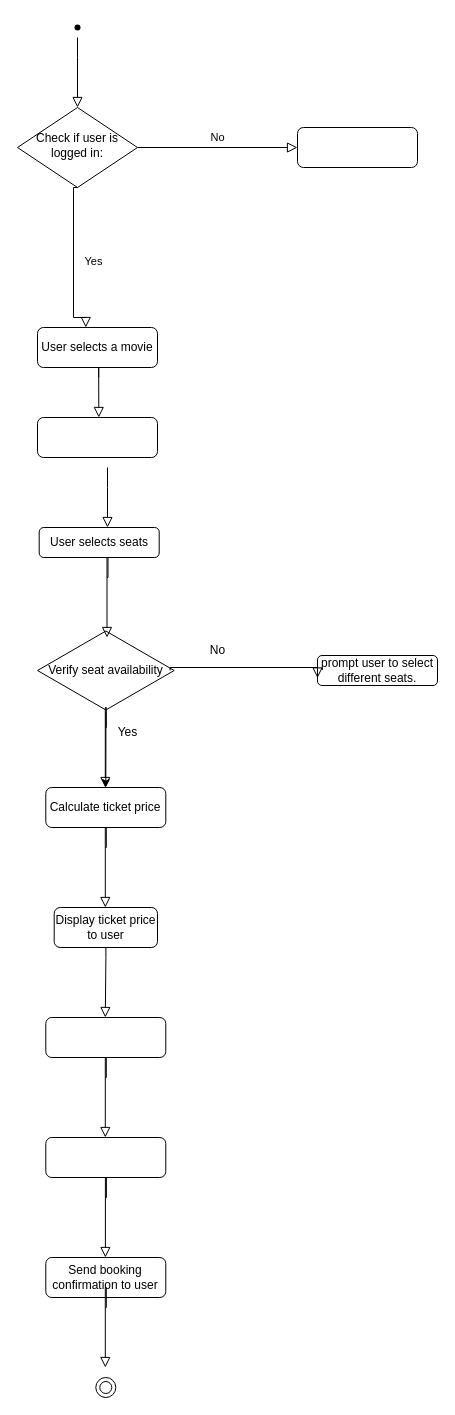
This 455x1415 diagram has some shape labels left out. Here are the shapes that lost their labels. From the top down, the centre of each, then its label:
point (357, 147): Prompt user to log in.
point (97, 437): Get movie details
point (105, 1037): User selects payment method
point (105, 1157): Process payment
